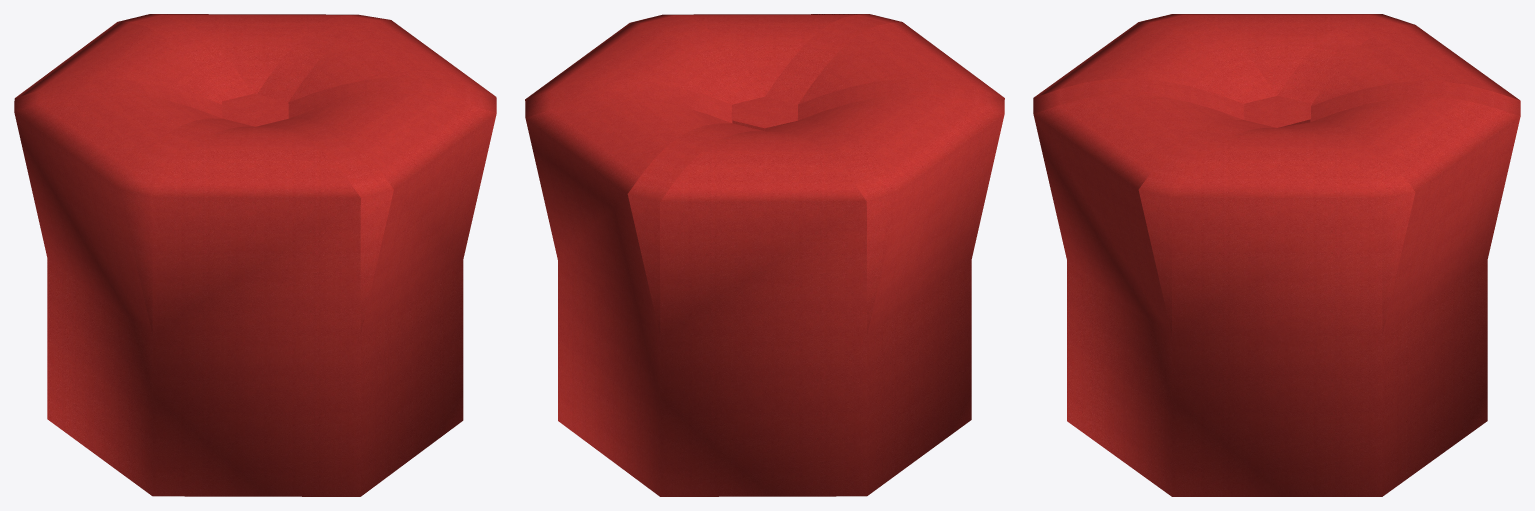
File: red Hat.dae
3 views of the same model, side by side, from view 1: azimuth 30°, elevation 25°; view 2: azimuth 150°, elevation 25°; view 3: azimuth 270°, elevation 25° (orthographic).
Visible parts, largest first — view 1: instance_0; view 2: instance_0; view 3: instance_0.
Boxes of the visible parts, bbox=[...] form: instance_0: bbox=[14, 14, 496, 496]; instance_0: bbox=[525, 14, 1004, 496]; instance_0: bbox=[1033, 14, 1520, 496].
Bounding box in the file's own units: 0.3749 × 0.4199 × 0.3235.
Materials: 1 (1 with a texture image).
